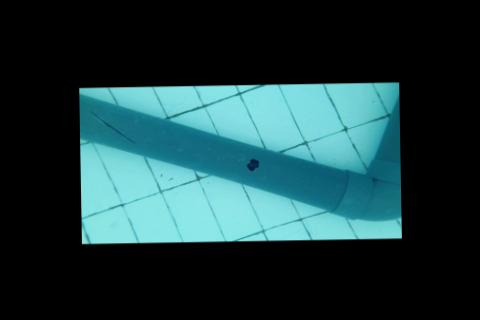kebocoran: (245, 157, 260, 172)
keretakan: (88, 107, 137, 144)
